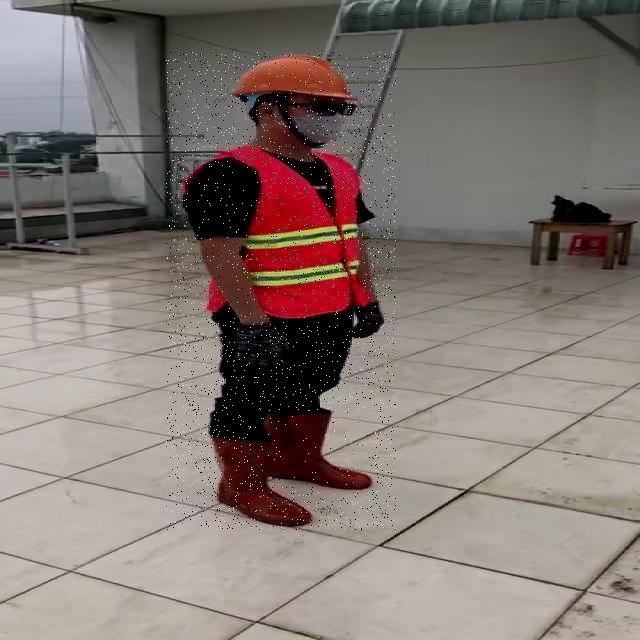boots: (213, 434, 310, 527), (263, 412, 375, 491)
gloves: (228, 321, 289, 368)
vest: (186, 149, 364, 316)
